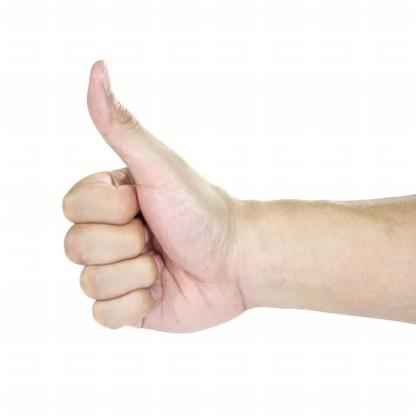thumb_up: (54, 55, 241, 336)
